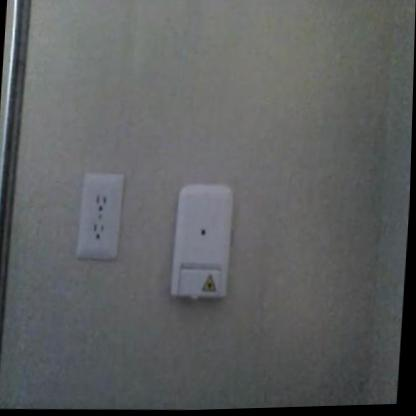OUTLET: (77, 171, 123, 263)
